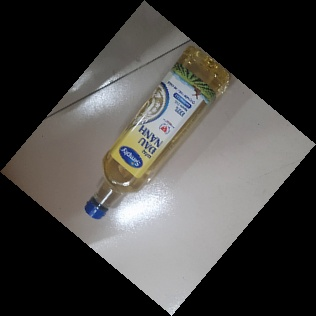Simply: (82, 41, 233, 220)
